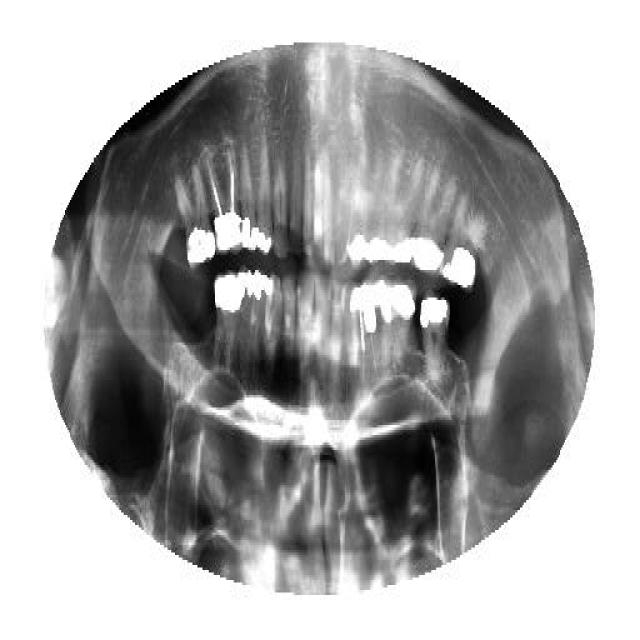Fillings: (414, 160, 456, 272), (171, 165, 214, 270), (208, 262, 244, 380), (390, 138, 421, 270), (444, 198, 486, 288), (362, 275, 388, 393), (419, 292, 450, 388), (388, 277, 413, 385), (245, 265, 269, 375), (345, 175, 371, 270), (338, 283, 362, 385), (238, 130, 258, 252), (369, 153, 390, 265), (256, 122, 272, 258)
Implant: (211, 145, 240, 257)
